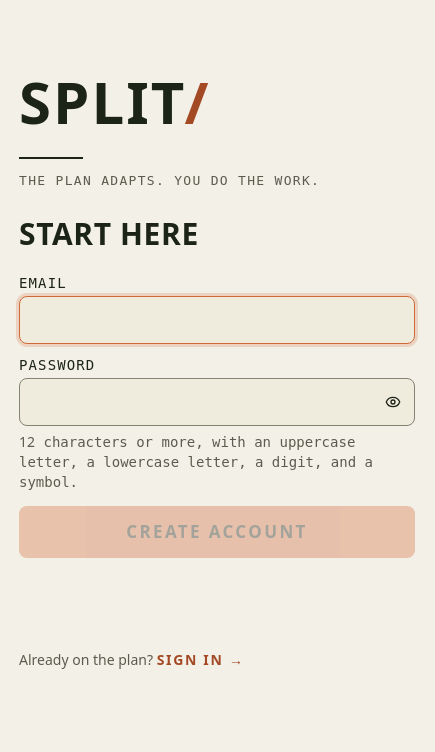
Test: RegisterPage › server-side error surfacing › renders ValidationProblemDetails.errors at the field level from the register response
The width and height of the screenshot is (435, 752).
Type "runner@example.com" into the field labelled "Email" at (217, 320), box [19,296,415,344]
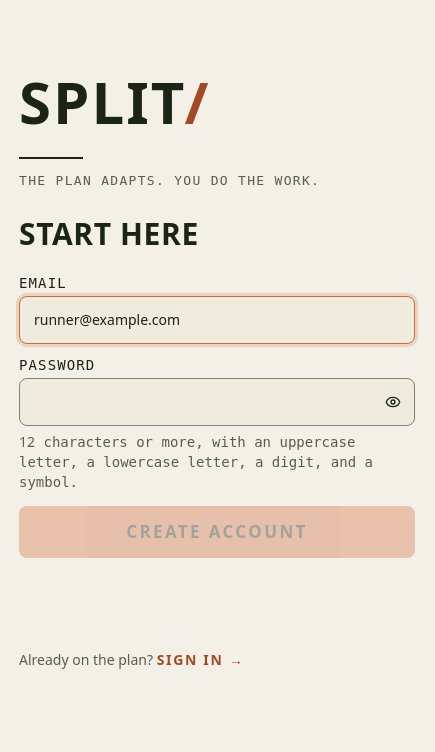
Type "StrongPassw0rd!" into the password field labelled "Password" at (217, 402), box [19,378,415,426]
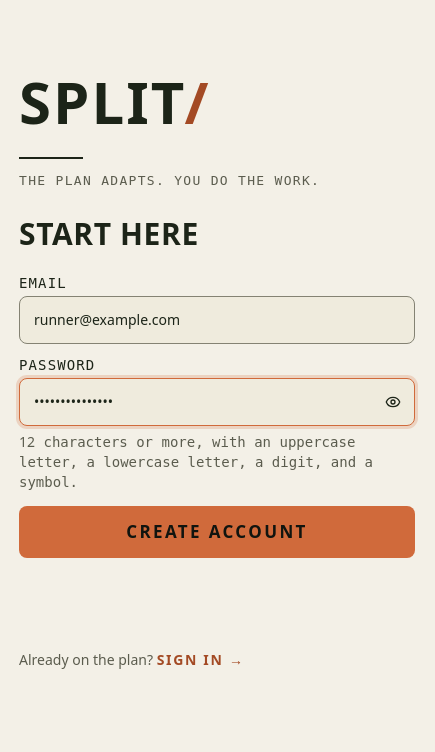
Expected: the button "Create account" is enabled
Click the button "Create account" at (217, 532), box [19,506,415,558]
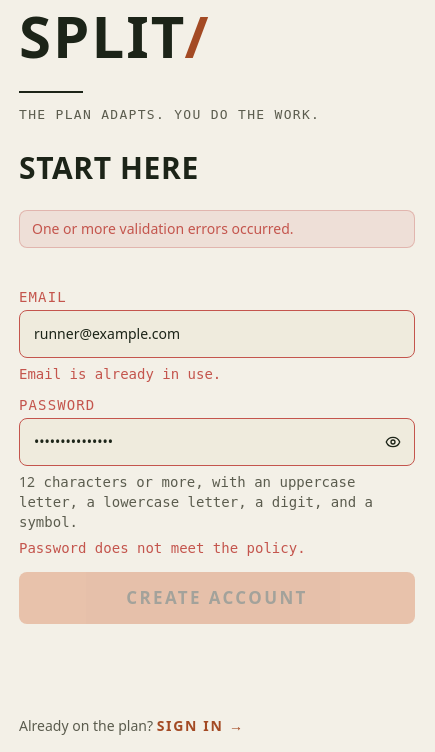
Expected: the text "Email is already in use." is shown, [19,366,221,382]
Expected: the text "Password does not meet the policy." is shown, [19,540,306,556]
